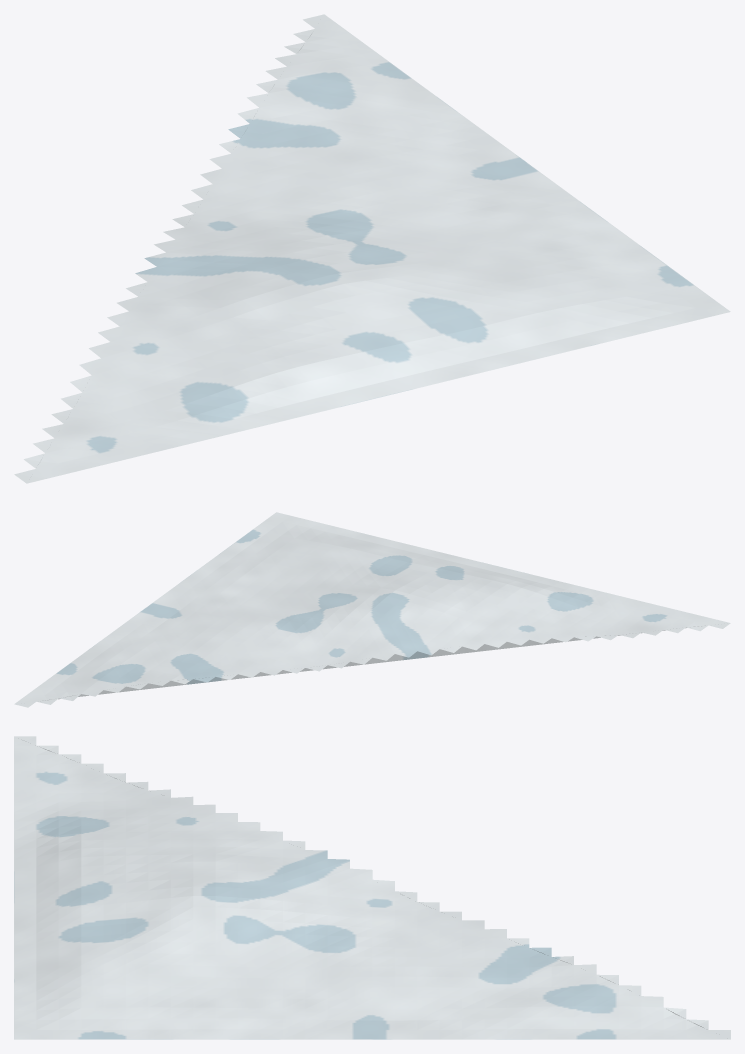
The model's file is Snow_Flat_12_NE.obj.
3 renders of one model, top to bottom at view 1: azimuth 30°, elevation 25°; view 2: azimuth 150°, elevation 25°; view 3: azimuth 270°, elevation 25°, orthographic. The views are drawn at different scales.
Size of the model in its own units: 10 by 0.3153 by 10.
Materials: 1 (1 with a texture image).
